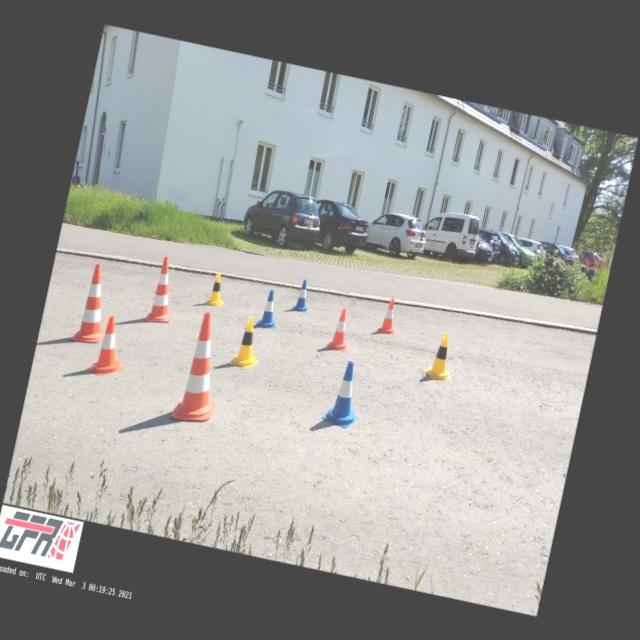blue_cone: (321, 358, 368, 430), (255, 287, 283, 330), (292, 278, 313, 312)
large_orange_cone: (170, 309, 233, 426), (70, 260, 118, 346), (144, 254, 182, 327)
orange_cone: (85, 312, 134, 380), (327, 306, 353, 352), (377, 296, 401, 335)
yellow_cone: (228, 314, 266, 371), (424, 329, 459, 382), (204, 270, 229, 308)
